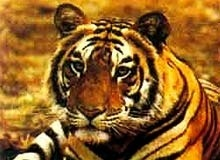tigre: (15, 1, 219, 160)
